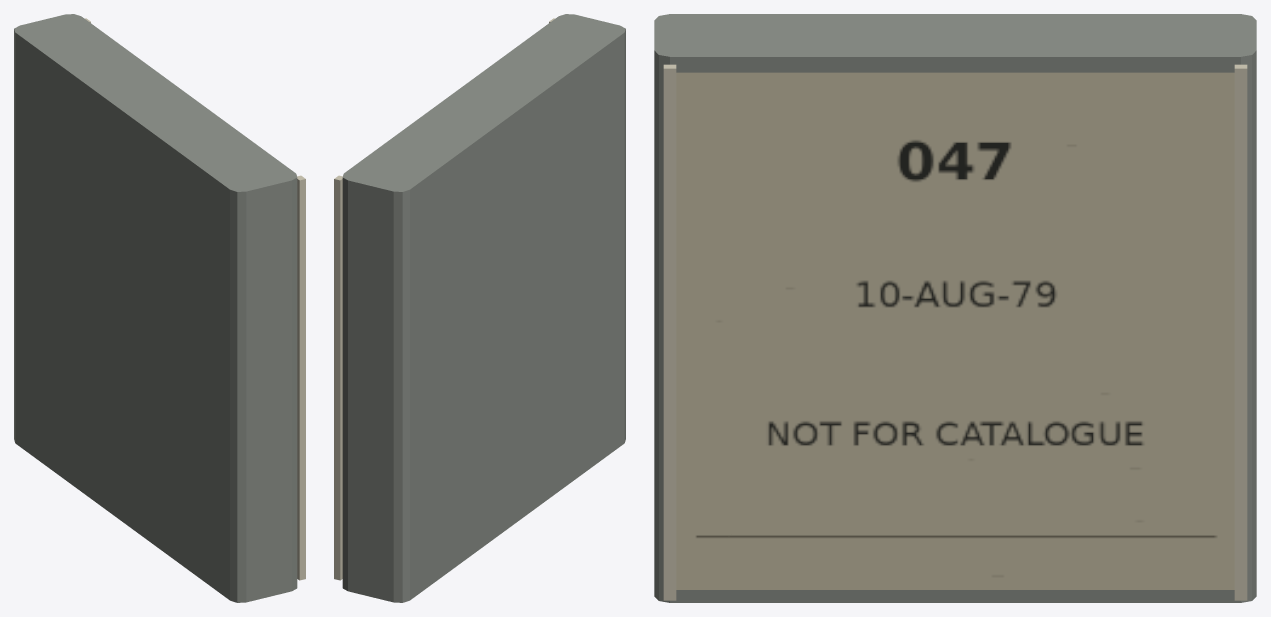
File: SM_ArchiveProps_Reel047Box_LOD1.fbx
The picture shows the model from 3 angles, left to right: view 1: azimuth 30°, elevation 25°; view 2: azimuth 150°, elevation 25°; view 3: azimuth 270°, elevation 25°; orthographic projection. The views are drawn at different scales.
Visible parts, largest first — view 1: SM_ArchiveProps_Reel047Box_LOD1; view 2: SM_ArchiveProps_Reel047Box_LOD1; view 3: SM_ArchiveProps_Reel047Box_LOD1.
Part boxes in pixels (x1=…): SM_ArchiveProps_Reel047Box_LOD1: x1=14, y1=14, x2=305, y2=602; SM_ArchiveProps_Reel047Box_LOD1: x1=334, y1=14, x2=625, y2=602; SM_ArchiveProps_Reel047Box_LOD1: x1=654, y1=14, x2=1256, y2=602.
Bounding box in the file's own units: 0.0355 × 0.19 × 0.19.
